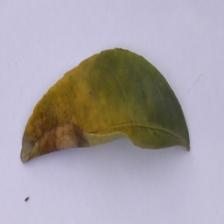black spot: (13, 88, 91, 170)
